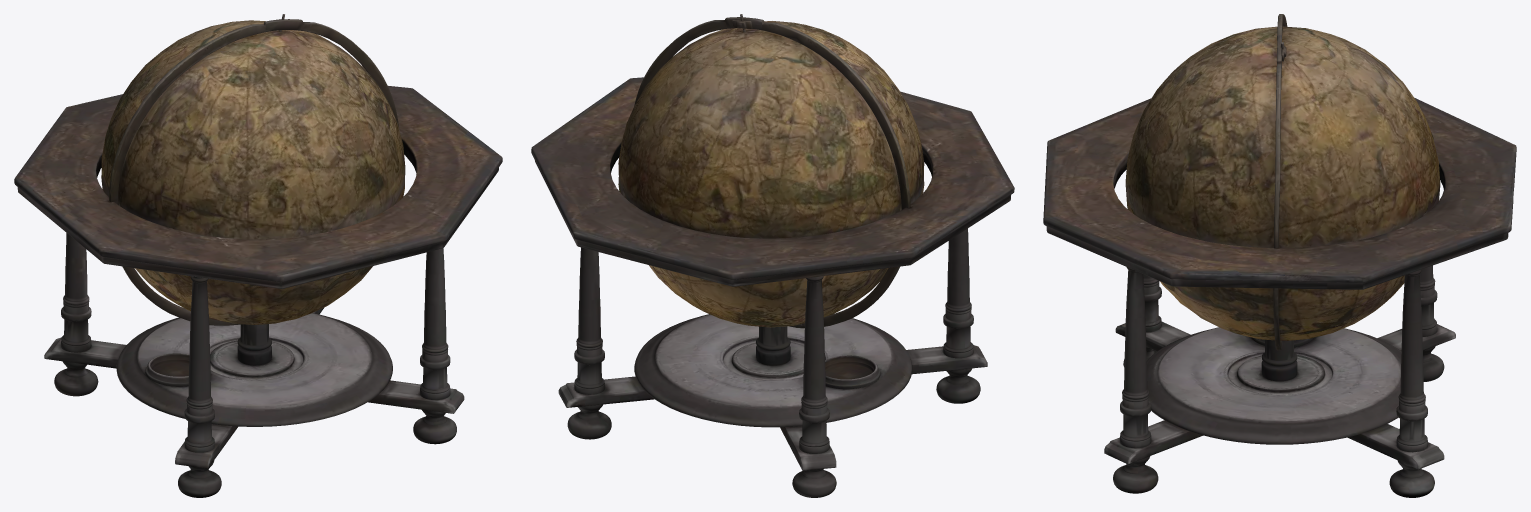
Rendered from home-servicios.glb.
3 views of the same model, side by side, from view 1: azimuth 30°, elevation 25°; view 2: azimuth 150°, elevation 25°; view 3: azimuth 270°, elevation 25° (orthographic). The views are drawn at different scales.
Parts seen in each view (by area): view 1: Object_2, Object_3, Object_4, Object_10, Object_6, Object_5, Object_11, Object_7, Object_9; view 2: Object_2, Object_3, Object_4, Object_10, Object_7, Object_8, Object_11, Object_6, Object_9; view 3: Object_2, Object_3, Object_4, Object_8, Object_5, Object_11, Object_10, Object_7, Object_9, Object_6.
Part boxes in pixels (bbox=[...]): Object_2: bbox=[101, 20, 405, 324]; Object_3: bbox=[14, 86, 502, 288]; Object_4: bbox=[116, 313, 392, 426]; Object_10: bbox=[109, 19, 398, 325]; Object_6: bbox=[178, 276, 221, 497]; Object_5: bbox=[413, 248, 456, 444]; Object_11: bbox=[44, 307, 464, 468]; Object_7: bbox=[54, 233, 98, 396]; Object_9: bbox=[145, 14, 284, 386]; Object_2: bbox=[618, 21, 924, 327]; Object_3: bbox=[531, 77, 1014, 286]; Object_4: bbox=[634, 314, 912, 427]; Object_10: bbox=[634, 17, 910, 328]; Object_7: bbox=[792, 276, 836, 497]; Object_8: bbox=[567, 247, 611, 439]; Object_11: bbox=[558, 345, 987, 470]; Object_6: bbox=[936, 228, 980, 403]; Object_9: bbox=[740, 14, 880, 389]; Object_2: bbox=[1125, 26, 1440, 340]; Object_3: bbox=[1043, 98, 1516, 289]; Object_4: bbox=[1147, 327, 1401, 444]; Object_8: bbox=[1389, 269, 1434, 497]; Object_5: bbox=[1113, 267, 1158, 493]; Object_11: bbox=[1104, 321, 1455, 469]; Object_10: bbox=[1273, 14, 1287, 350]; Object_7: bbox=[1419, 265, 1444, 381]; Object_9: bbox=[1251, 42, 1313, 381]; Object_6: bbox=[1123, 274, 1161, 366].
Bounding box in the file's own units: 0.7267 × 0.6886 × 0.727.
6 materials, 6 textured.
